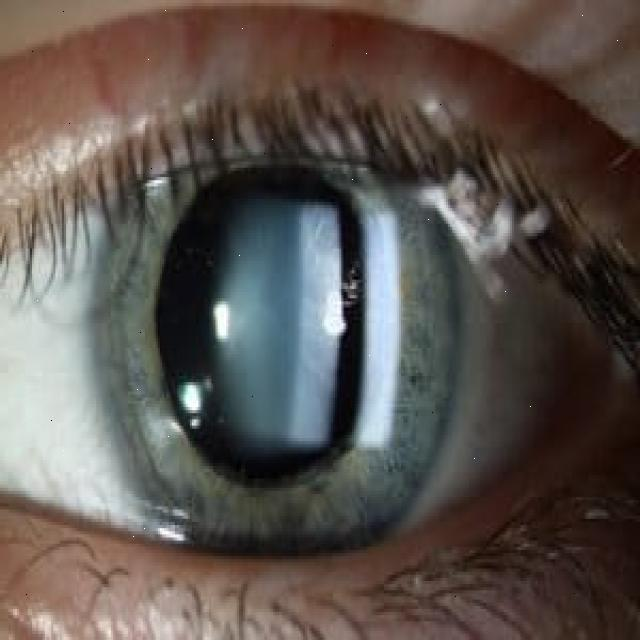Normal: (89, 90, 459, 554)
